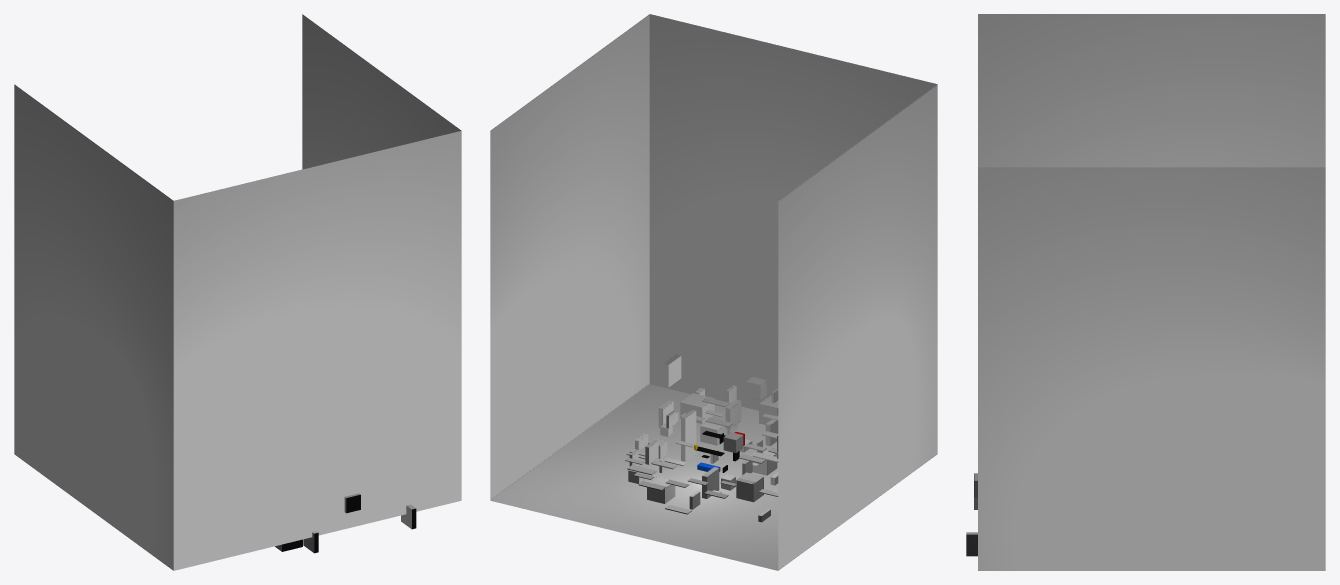
File: GORIN_GLTF_COLOR_SPLIT_EXPORT.gltf
The picture shows the model from 3 angles, left to right: view 1: azimuth 30°, elevation 25°; view 2: azimuth 150°, elevation 25°; view 3: azimuth 270°, elevation 25°; orthographic projection. The views are drawn at different scales.
Parts seen in each view (by area): view 1: CUBE, RANDOM_BOX; view 2: CUBE, RANDOM_BOX, RANDOM_PLATE; view 3: CUBE.
Boxes of the visible parts, x1=… form: CUBE: x1=14, y1=14, x2=461, y2=570; RANDOM_BOX: x1=275, y1=493, x2=416, y2=553; CUBE: x1=490, y1=14, x2=937, y2=570; RANDOM_BOX: x1=628, y1=354, x2=778, y2=522; RANDOM_PLATE: x1=625, y1=397, x2=778, y2=514; CUBE: x1=978, y1=14, x2=1325, y2=570.
Size of the model in its own units: 861 by 1103 by 854.
Materials: 7 (7 with a texture image).
